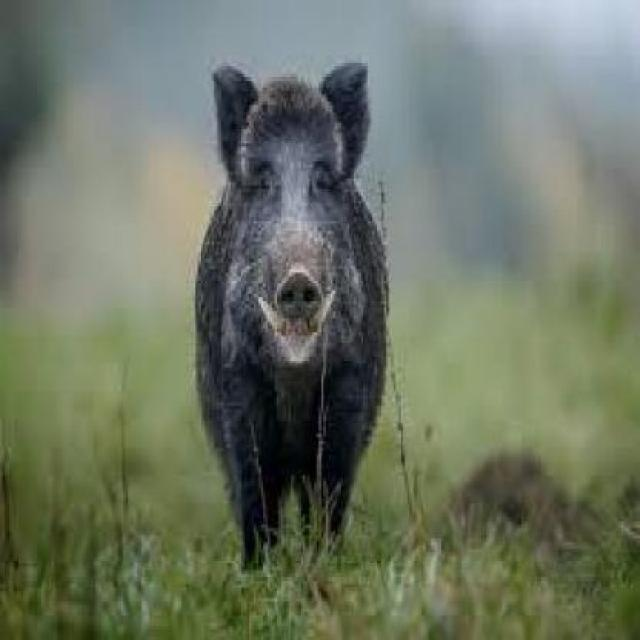wildboar: (190, 59, 395, 590)
